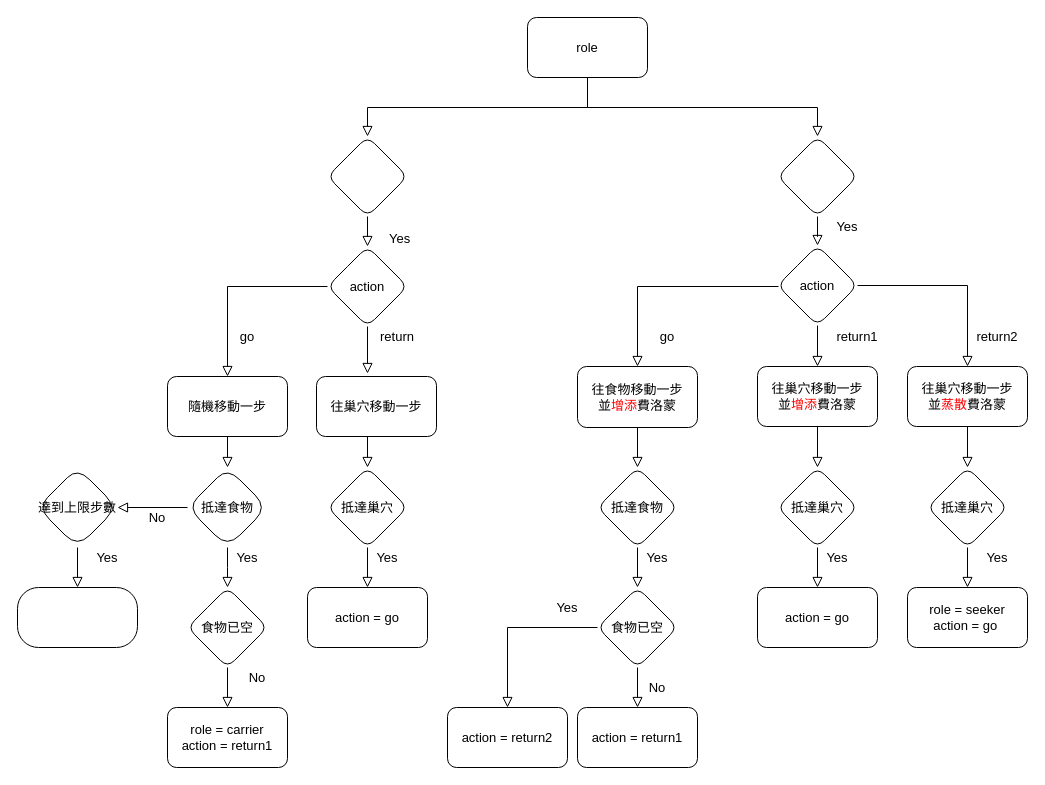
Image size: 1045x785. Some labels were removed from this diagram. Here are the shapes that lost their labels. From the top down, the box of each, then its label:
(326, 136, 408, 216): seeker
(776, 136, 858, 216): carrier
(16, 586, 138, 648): action = return
